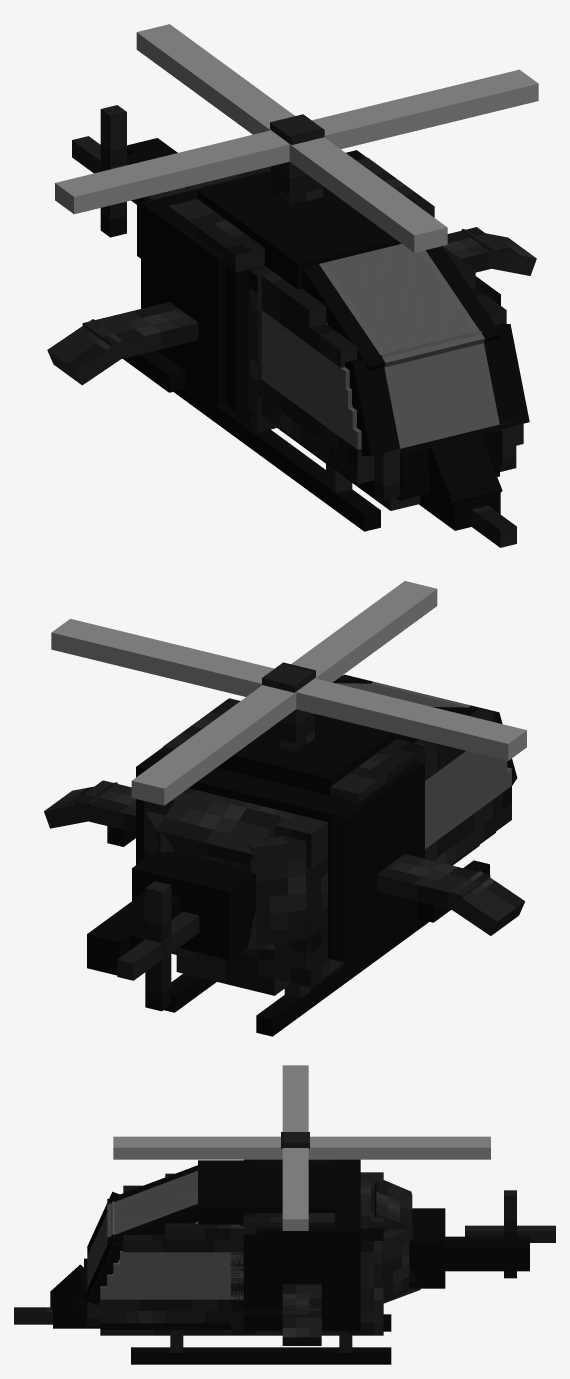
The model's file is helicopter_80270b80.glb.
3 views of the same model, one above another, from view 1: azimuth 30°, elevation 25°; view 2: azimuth 150°, elevation 25°; view 3: azimuth 270°, elevation 25° (orthographic). The views are drawn at different scales.
Visible parts, largest first — view 1: 97062499-7454-2f0e-4208-641492f982e5_36, c9e30140-efde-473b-a501-4b81dd57a313_35, 7357b553-6183-038e-2e72-180e61400530_27, 0de411d1-ca2e-c384-5a57-42312d1a4da0_33, 3a0d6ce5-9048-b3ec-03a2-02b504ca6203_40, b8f895e5-875a-8aac-29a5-5d0330b83351_0, ed0f0658-5146-bf89-8904-73b4bbf95852_8, fd43f38b-a943-a923-0c68-893267eb6fc2_57, c854c406-a072-b107-f4b6-e174a5b5434f_26, af56fe83-146f-b130-4176-56840289d905_6, 08b820f8-180f-c043-1a72-afc0ed7c93de_64, 5c085a34-ab25-a691-3a54-f5af5a9b2c64_38 (+26 smaller); view 2: 0de411d1-ca2e-c384-5a57-42312d1a4da0_33, 97062499-7454-2f0e-4208-641492f982e5_36, c9e30140-efde-473b-a501-4b81dd57a313_35, 45e29e67-a668-7657-b01a-80ffc4f9d541_34, 3f1dcd39-ff79-24b5-856e-e8cde89cbeb0_32, 3a0d6ce5-9048-b3ec-03a2-02b504ca6203_40, 7462658f-61ae-922f-7f76-0fb8567689cf_16, 6e10490b-ecf5-c3d3-4488-63a325f5eb0b_13, c854c406-a072-b107-f4b6-e174a5b5434f_26, ed0f0658-5146-bf89-8904-73b4bbf95852_8, 4f97ef46-a13d-e240-386d-9ac92e349c8a_17, dd283bfc-1832-ef06-a7b9-4c946acdd030_31 (+19 smaller); view 3: 0de411d1-ca2e-c384-5a57-42312d1a4da0_33, c9e30140-efde-473b-a501-4b81dd57a313_35, 3a0d6ce5-9048-b3ec-03a2-02b504ca6203_40, 45e29e67-a668-7657-b01a-80ffc4f9d541_34, 8a692627-1224-230e-6d2a-ba66fe65414c_7, 97062499-7454-2f0e-4208-641492f982e5_36, 6d8e212d-0bfe-adb7-9507-1b8440c68b43_58, dd283bfc-1832-ef06-a7b9-4c946acdd030_31, 7357b553-6183-038e-2e72-180e61400530_27, 3f1dcd39-ff79-24b5-856e-e8cde89cbeb0_32, 2b7cfdb2-de58-80d3-012f-3e4901bc5461_14, 033690c0-4d66-57bd-221c-5fd17b239c08_51 (+23 smaller).
Boxes of the visible parts, x1,y1,x2,y2 form: 97062499-7454-2f0e-4208-641492f982e5_36: [55, 69, 538, 214]; c9e30140-efde-473b-a501-4b81dd57a313_35: [136, 24, 447, 252]; 7357b553-6183-038e-2e72-180e61400530_27: [319, 244, 484, 367]; 0de411d1-ca2e-c384-5a57-42312d1a4da0_33: [141, 150, 366, 406]; 3a0d6ce5-9048-b3ec-03a2-02b504ca6203_40: [197, 172, 401, 289]; b8f895e5-875a-8aac-29a5-5d0330b83351_0: [381, 331, 499, 448]; ed0f0658-5146-bf89-8904-73b4bbf95852_8: [173, 383, 380, 531]; fd43f38b-a943-a923-0c68-893267eb6fc2_57: [261, 380, 374, 484]; c854c406-a072-b107-f4b6-e174a5b5434f_26: [82, 302, 198, 360]; af56fe83-146f-b130-4176-56840289d905_6: [428, 434, 502, 511]; 08b820f8-180f-c043-1a72-afc0ed7c93de_64: [345, 355, 399, 455]; 5c085a34-ab25-a691-3a54-f5af5a9b2c64_38: [168, 199, 264, 272]; 0de411d1-ca2e-c384-5a57-42312d1a4da0_33: [136, 747, 423, 963]; 97062499-7454-2f0e-4208-641492f982e5_36: [51, 619, 526, 760]; c9e30140-efde-473b-a501-4b81dd57a313_35: [131, 581, 437, 805]; 45e29e67-a668-7657-b01a-80ffc4f9d541_34: [144, 788, 344, 987]; 3f1dcd39-ff79-24b5-856e-e8cde89cbeb0_32: [132, 849, 255, 960]; 3a0d6ce5-9048-b3ec-03a2-02b504ca6203_40: [216, 714, 418, 795]; 7462658f-61ae-922f-7f76-0fb8567689cf_16: [156, 792, 280, 868]; 6e10490b-ecf5-c3d3-4488-63a325f5eb0b_13: [247, 836, 306, 945]; c854c406-a072-b107-f4b6-e174a5b5434f_26: [376, 854, 490, 909]; ed0f0658-5146-bf89-8904-73b4bbf95852_8: [256, 913, 429, 1036]; 4f97ef46-a13d-e240-386d-9ac92e349c8a_17: [145, 881, 171, 1011]; dd283bfc-1832-ef06-a7b9-4c946acdd030_31: [87, 892, 180, 975]; 0de411d1-ca2e-c384-5a57-42312d1a4da0_33: [256, 1159, 360, 1331]; c9e30140-efde-473b-a501-4b81dd57a313_35: [113, 1136, 490, 1159]; 3a0d6ce5-9048-b3ec-03a2-02b504ca6203_40: [198, 1160, 334, 1224]; 45e29e67-a668-7657-b01a-80ffc4f9d541_34: [230, 1172, 383, 1334]; 8a692627-1224-230e-6d2a-ba66fe65414c_7: [131, 1347, 391, 1364]; 97062499-7454-2f0e-4208-641492f982e5_36: [282, 1065, 308, 1230]; 6d8e212d-0bfe-adb7-9507-1b8440c68b43_58: [100, 1299, 243, 1323]; dd283bfc-1832-ef06-a7b9-4c946acdd030_31: [445, 1236, 529, 1271]; 7357b553-6183-038e-2e72-180e61400530_27: [107, 1171, 197, 1237]; 3f1dcd39-ff79-24b5-856e-e8cde89cbeb0_32: [409, 1208, 445, 1288]; 2b7cfdb2-de58-80d3-012f-3e4901bc5461_14: [383, 1227, 413, 1301]; 033690c0-4d66-57bd-221c-5fd17b239c08_51: [100, 1286, 243, 1299].
Bounding box in the file's own units: 1.75 × 1.09 × 2.6.
5 materials, 5 textured.
